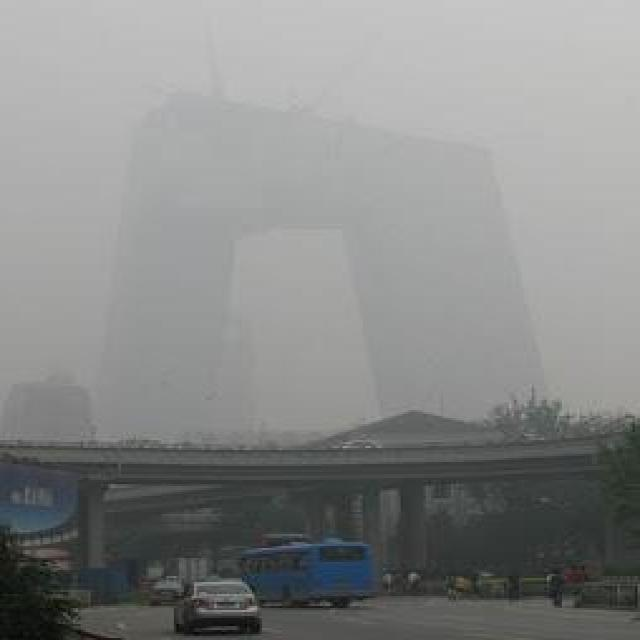Bus: (235, 540, 380, 607)
Car: (173, 580, 263, 635), (146, 579, 185, 606)
